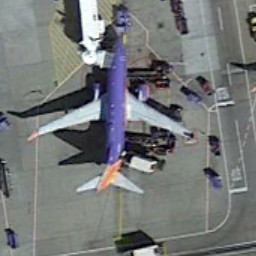Airplane: (21, 30, 197, 196)
